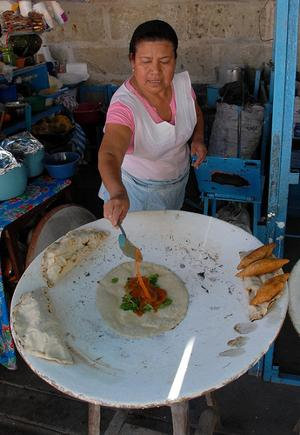person: (97, 19, 208, 231)
